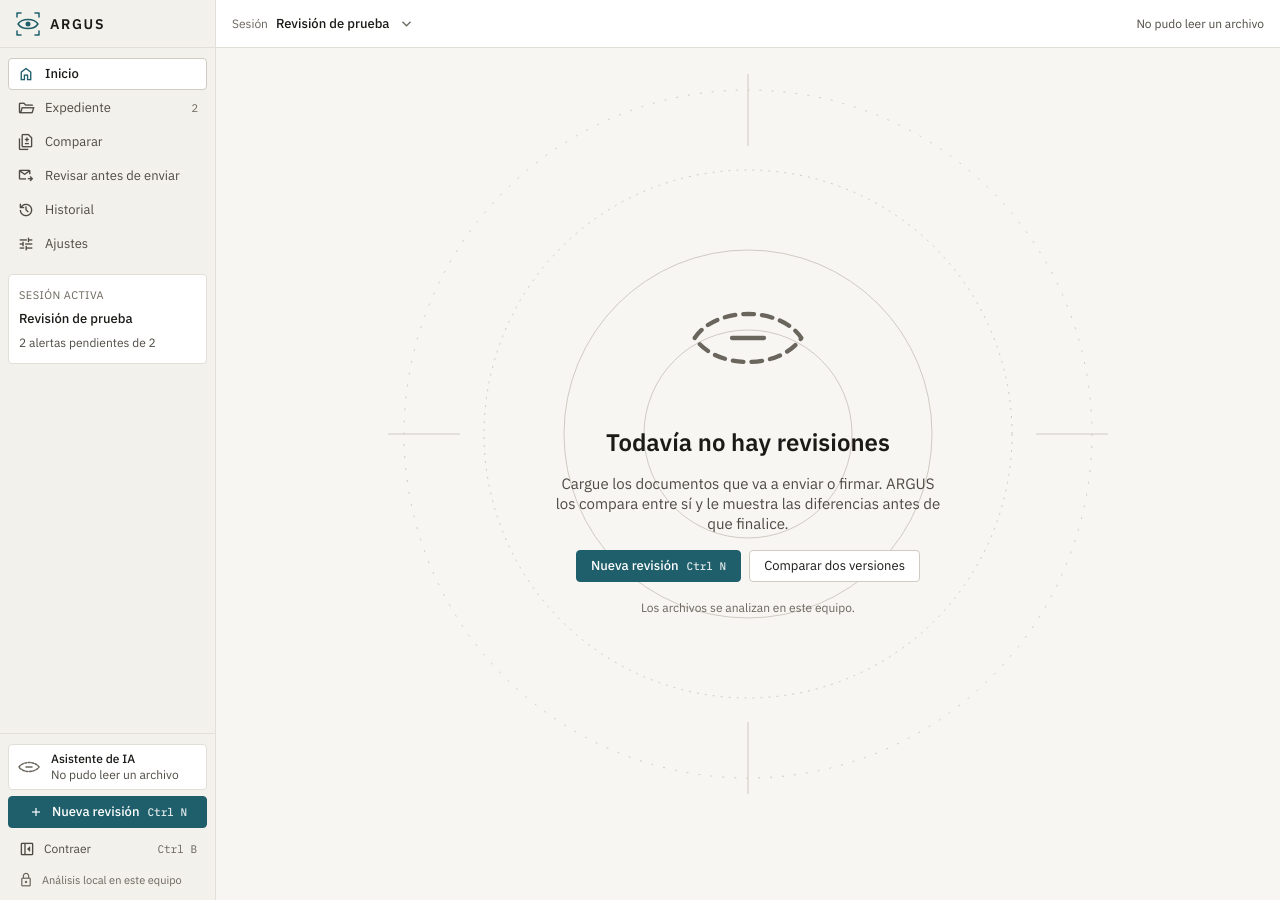
Test: Explicar esta alerta › sin clave usa la explicación local y lo explica en tres partes
Click the button "Expediente 2": [108, 108] box [8,92,207,124]
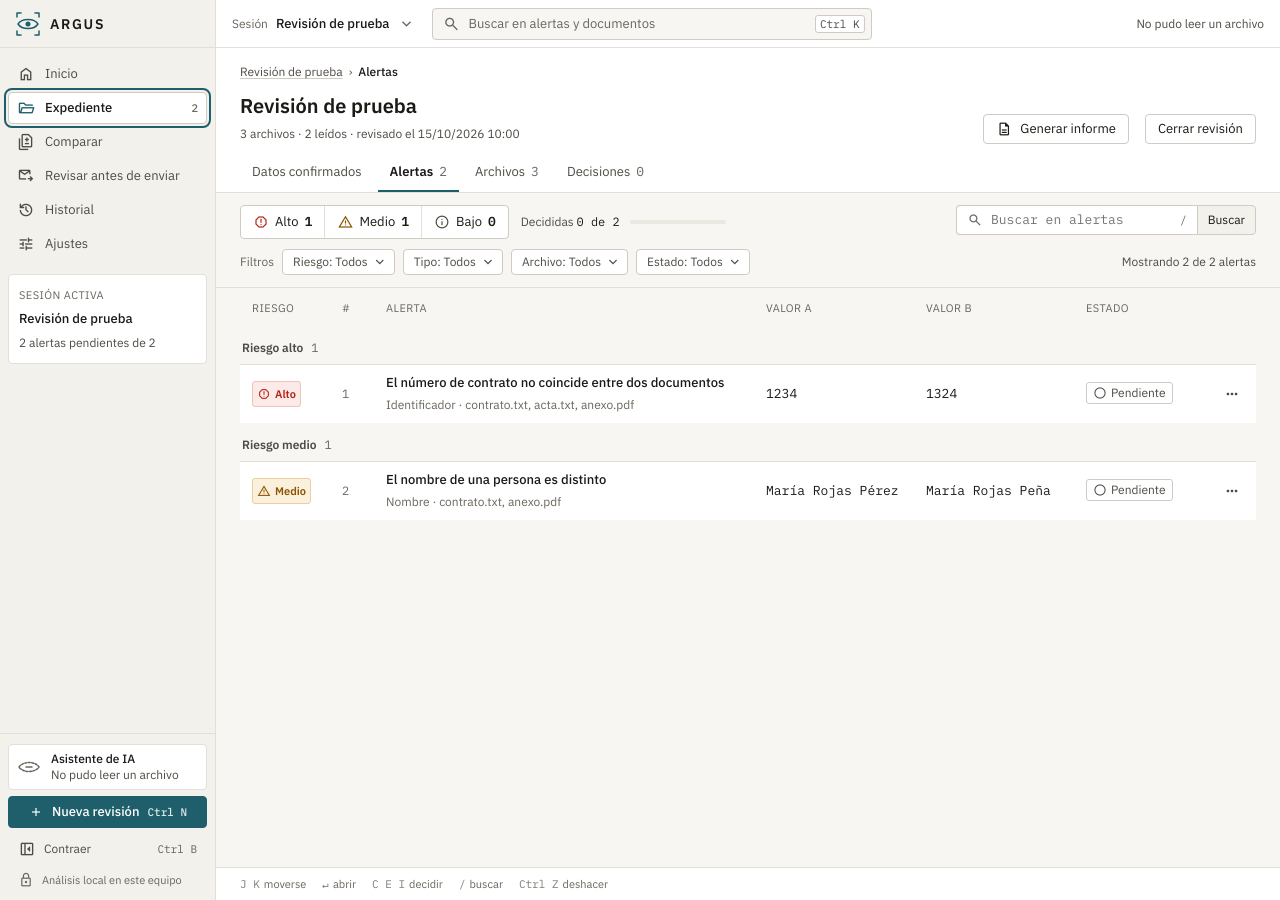
Click the row that starts with "Alto": [748, 394] box [240,364,1256,423]
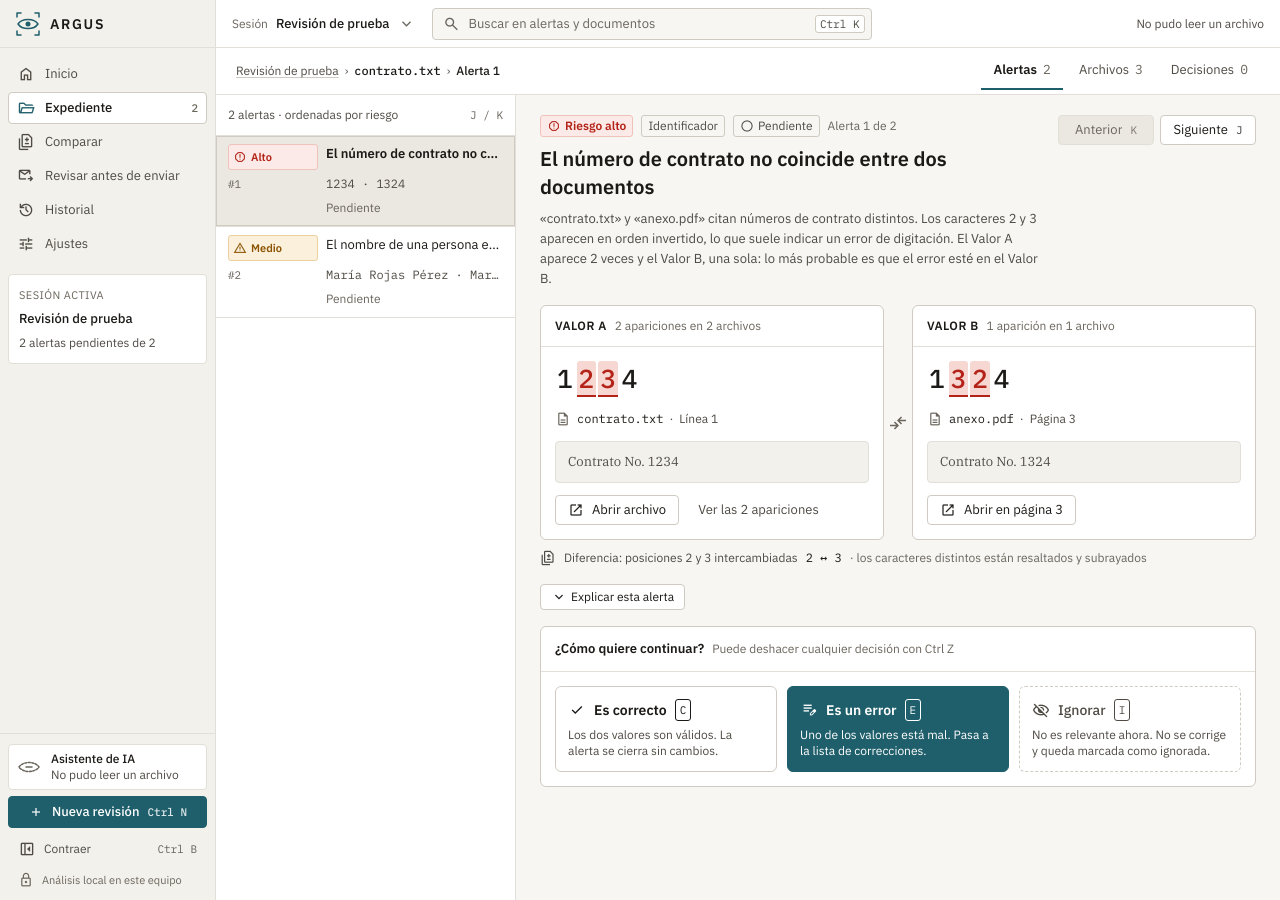
Click the button "Explicar esta alerta": [613, 597] box [540,584,685,610]
(page scrolled)
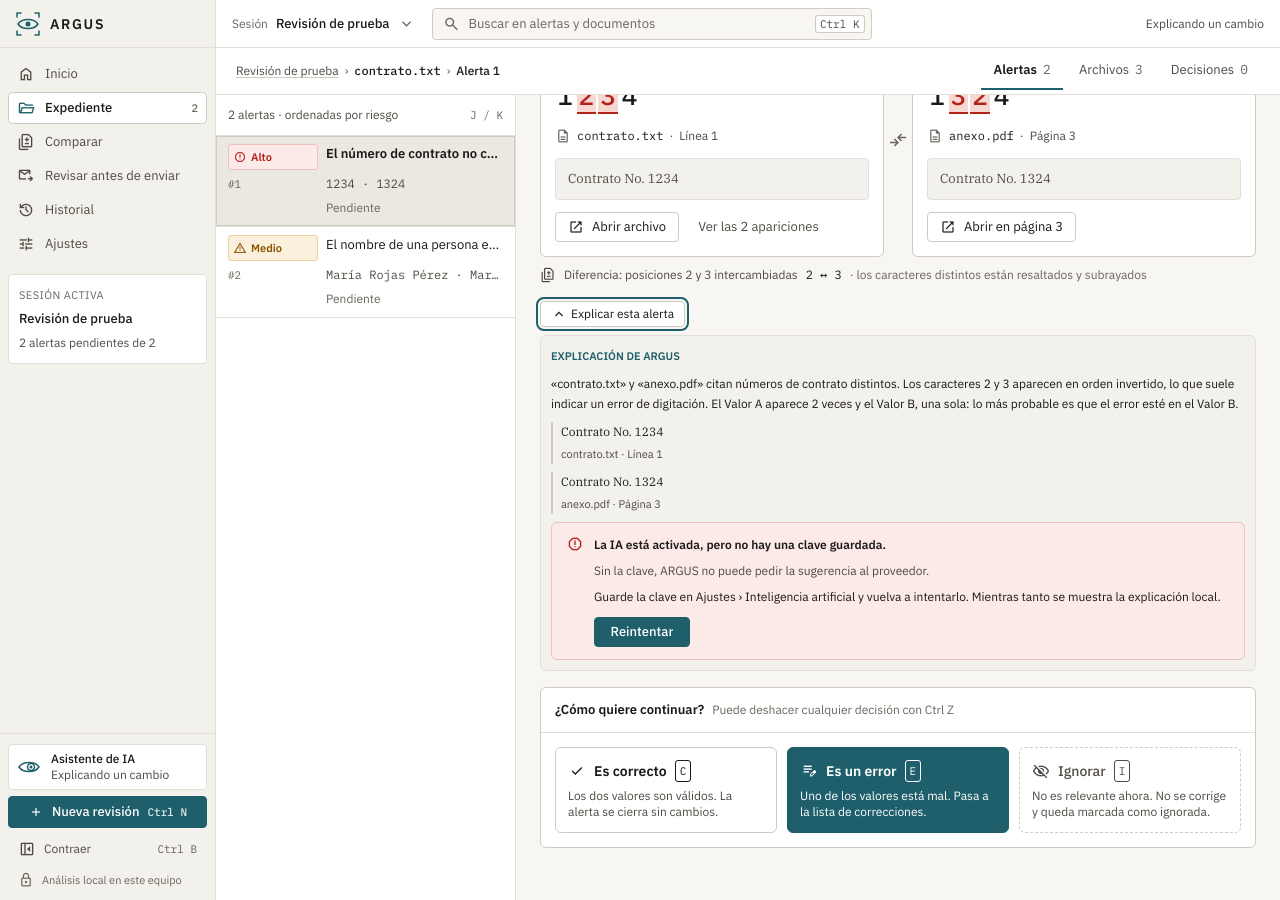
Expected: the text "Explicación de ARGUS" is shown, [551,349,680,363]
Expected: the text "La IA está activada, pero no hay una clave guardada." is shown, [594,537,886,552]
Expected: the text "Sin la clave, ARGUS no puede pedir" is shown, [594,563,929,578]
